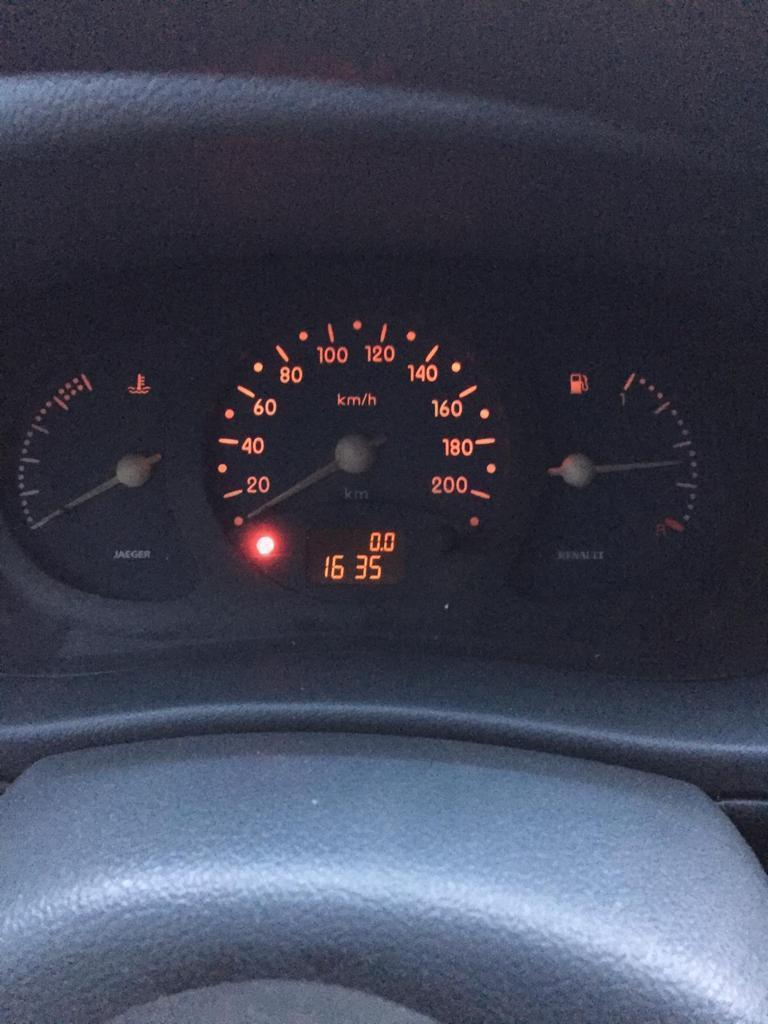,: (379, 546, 384, 552)
0: (369, 531, 381, 552), (383, 531, 395, 551)
1: (323, 555, 329, 578)
3: (354, 554, 368, 580)
5: (368, 554, 382, 579)
6: (330, 554, 345, 580)
odometer: (303, 524, 410, 588)
